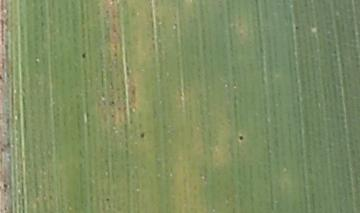tarspot: (139, 132, 146, 139), (239, 134, 244, 142), (82, 52, 87, 59), (105, 198, 111, 203), (111, 99, 115, 106)
